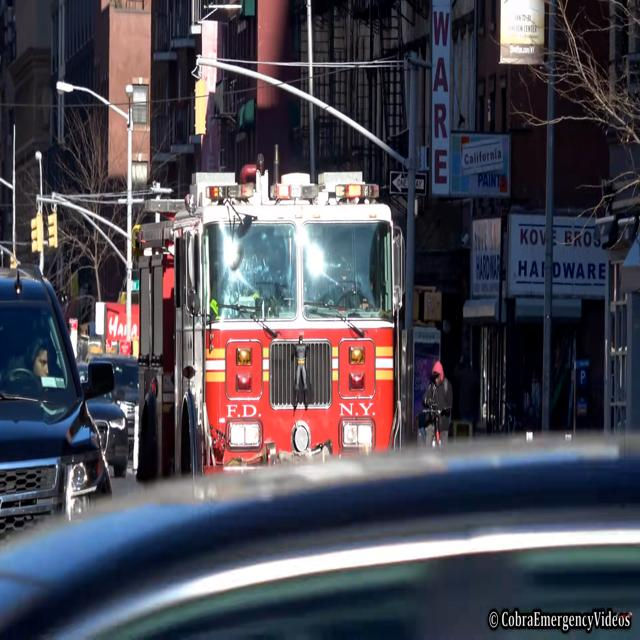emergency-vehicles: (123, 147, 414, 499)
